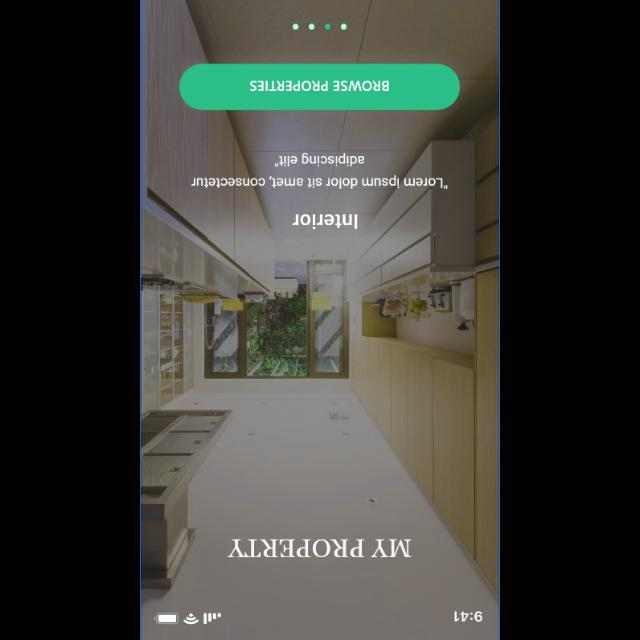backgroundimage: (140, 1, 498, 640)
pageindicator: (291, 22, 347, 32)
text: (190, 153, 448, 190), (226, 538, 412, 558), (292, 212, 358, 230)
textbutton: (179, 64, 459, 110)
uppertaskbar: (152, 610, 482, 624)
